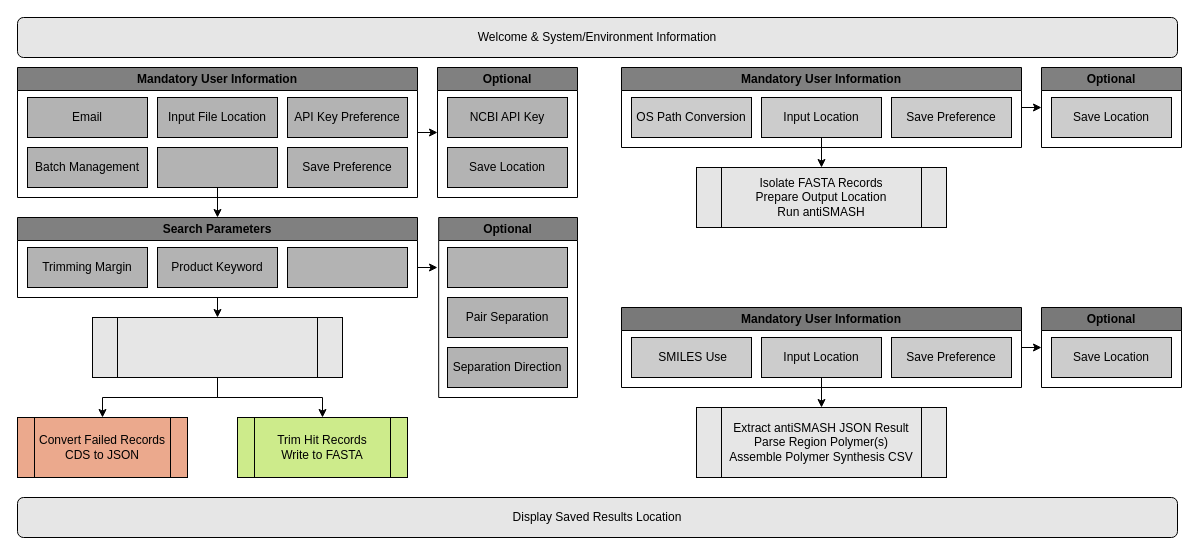
Image size: 1199x555. Some labels were removed from this diagram. The centre of each missing label's shape, as x and y in pixels:
Locate Protein Record Link Nucleotide Record Search Nucleotide Record: the point at 217,347
Product Pairing: the point at 347,267
Product Pairs: the point at 507,267
Search: the point at 217,167
